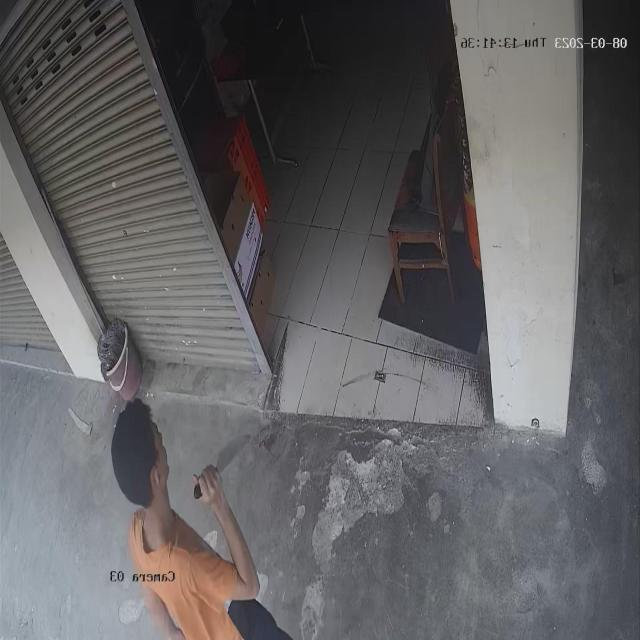Knife: (181, 432, 256, 498)
